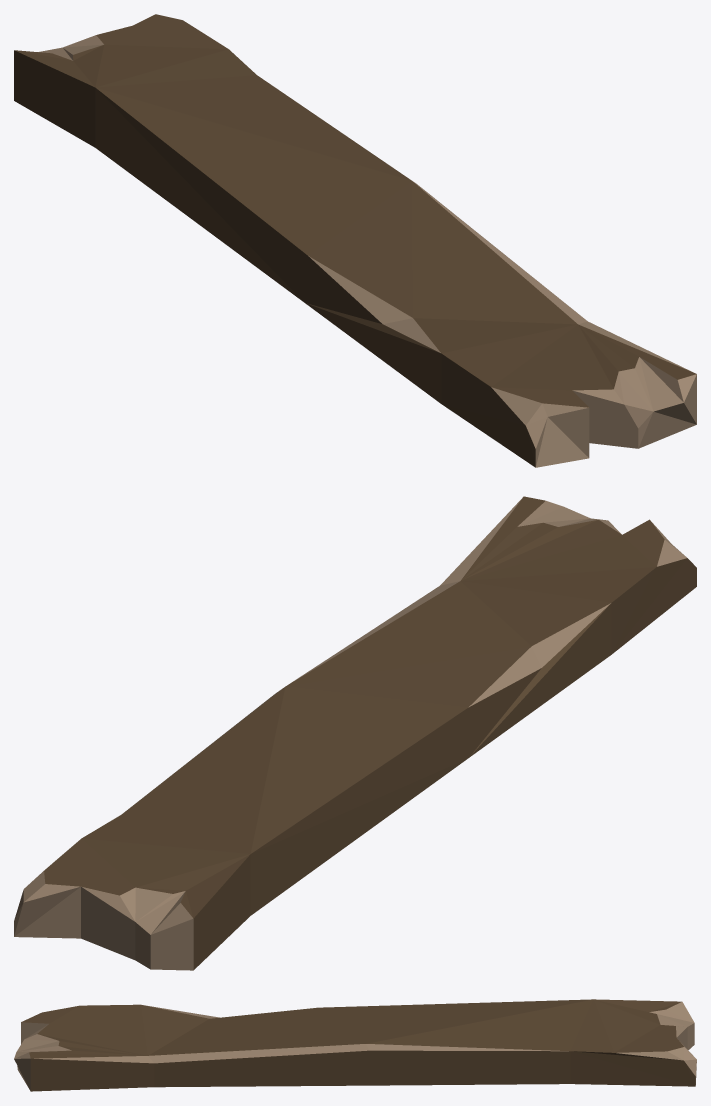
Rendered from Board_02.FBX.
The picture shows the model from 3 angles, top to bottom: view 1: azimuth 30°, elevation 25°; view 2: azimuth 150°, elevation 25°; view 3: azimuth 270°, elevation 25°; orthographic projection. The views are drawn at different scales.
Parts seen in each view (by area): view 1: Board_02; view 2: Board_02; view 3: Board_02.
Boxes of the visible parts, x1=… form: Board_02: x1=14, y1=14, x2=696, y2=467; Board_02: x1=14, y1=496, x2=696, y2=970; Board_02: x1=14, y1=999, x2=696, y2=1091.
Bounding box in the file's own units: 0.745 × 0.2402 × 3.77.
